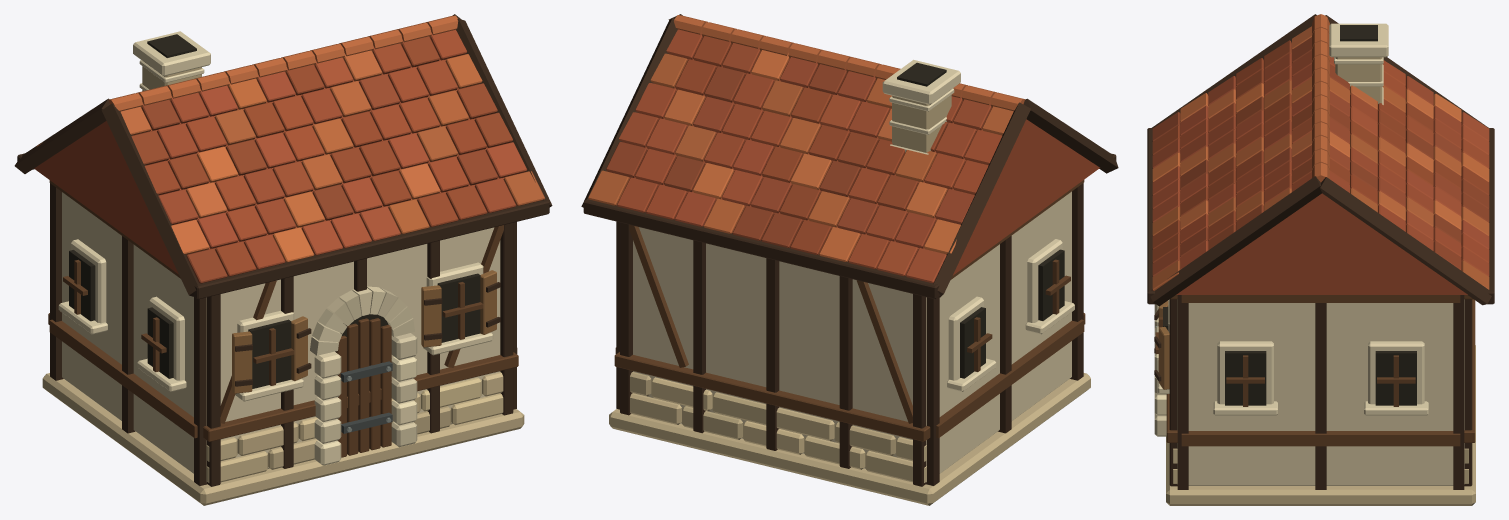
Rendered from house.glb.
3 renders of one model, left to right at view 1: azimuth 30°, elevation 25°; view 2: azimuth 150°, elevation 25°; view 3: azimuth 270°, elevation 25°, orthographic. The views are drawn at different scales.
Parts seen in each view (by area): view 1: Roof, Stone, Timber, Metal; view 2: Stone, Roof, Timber; view 3: Roof, Stone, Timber.
Boxes of the visible parts, left/top/right/bottom form: Roof: left=34, top=15, right=544, bottom=283; Stone: left=42, top=31, right=524, bottom=505; Timber: left=14, top=14, right=552, bottom=486; Metal: left=340, top=361, right=392, bottom=433; Stone: left=609, top=59, right=1090, bottom=505; Roof: left=588, top=15, right=1099, bottom=283; Timber: left=581, top=14, right=1118, bottom=486; Roof: left=1152, top=14, right=1489, bottom=294; Stone: left=1154, top=23, right=1475, bottom=505; Timber: left=1147, top=14, right=1494, bottom=489.
Size of the model in its own units: 5.83 by 5.72 by 5.04.
